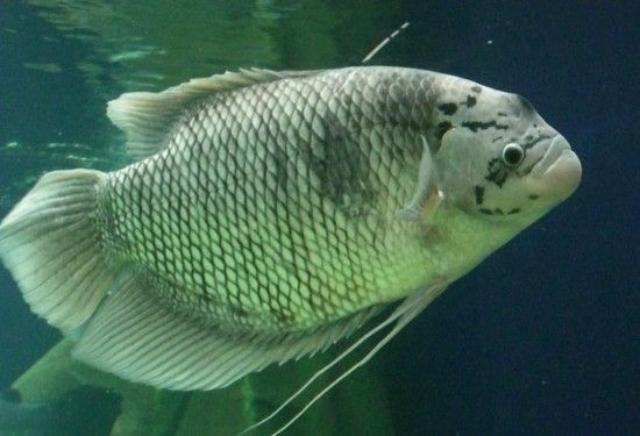Mulut: (510, 122, 596, 204)
Sirip Dada: (360, 128, 472, 250)
Sirip Ekor: (0, 159, 150, 345)
Sirip Punggung: (86, 59, 332, 177)
